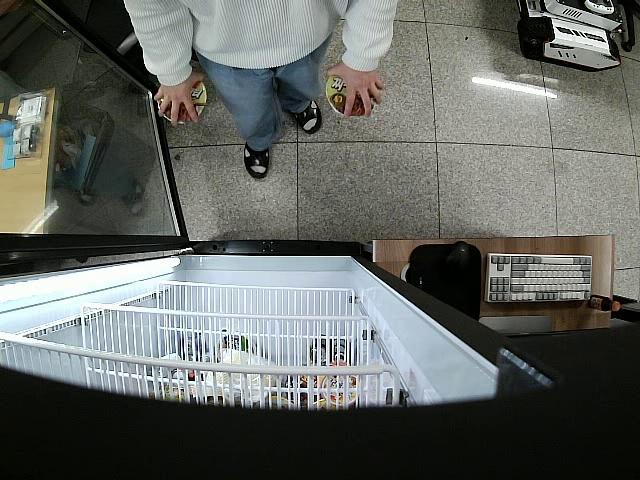00_hand: (325, 59, 385, 121), (153, 71, 205, 125)
03_chapagetti_L: (155, 79, 209, 126), (326, 72, 376, 121)
